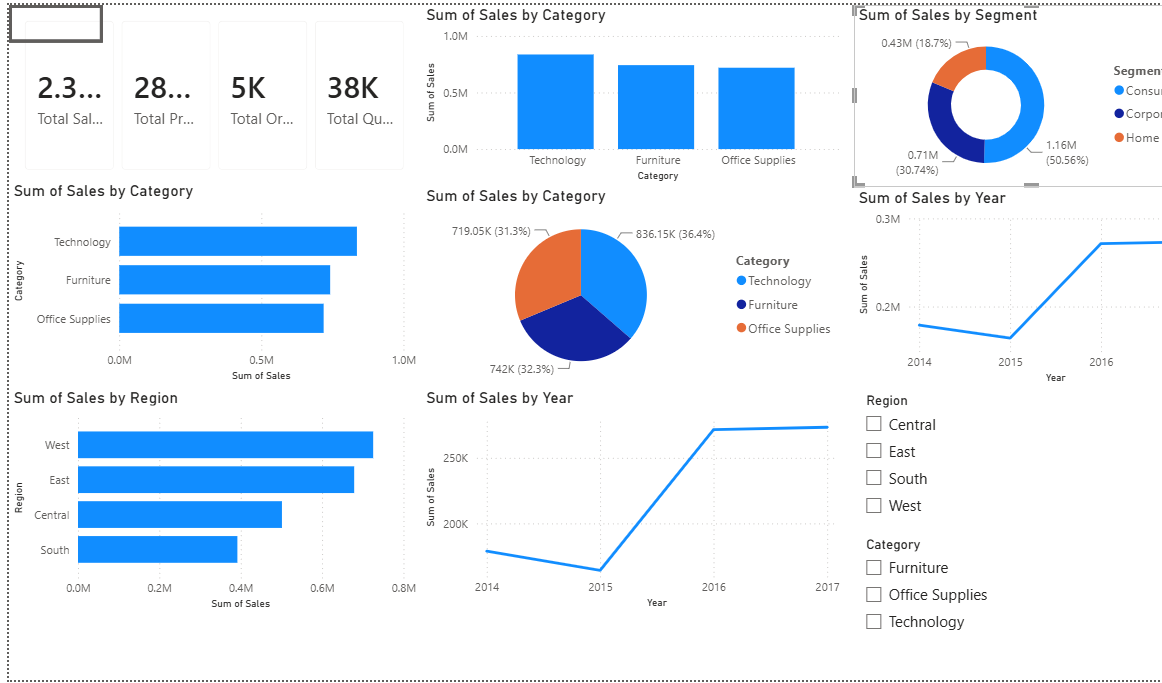

The page's visual inventory and layout, read from the dashboard file:
{"tool":"powerbi","page":{"name":"Dashboard","canvas":[1280,720],"ordinal":0},"visuals":[{"type":"cardVisual","fields":{"Data":["Sample - Superstore.Total Sales","Sample - Superstore.Total Profit","Sample - Superstore.Total Orders","Sample - Superstore.Total Quantity"]},"box":[0,0,440,193.7],"z":0},{"type":"clusteredBarChart","fields":{"Category":["Sample - Superstore.Category"],"Y":["Sum(Sample - Superstore.Sales)"]},"box":[0,188.4,440,218.9],"z":1000},{"type":"clusteredBarChart","fields":{"Category":["Sample - Superstore.Region"],"Y":["Sum(Sample - Superstore.Sales)"]},"box":[0,407.4,440,242.1],"z":2000},{"type":"clusteredColumnChart","fields":{"Category":["Sample - Superstore.Category"],"Y":["Sum(Sample - Superstore.Sales)"]},"box":[440,0,450.5,193.7],"z":3000},{"type":"pieChart","fields":{"Category":["Sample - Superstore.Category"],"Y":["Sum(Sample - Superstore.Sales)"]},"box":[440,193.7,450.5,213.7],"z":4000},{"type":"lineChart","fields":{"Y":["Sum(Sample - Superstore.Sales)"],"Category":["Sample - Superstore.Order Date.Variation.Date Hierarchy.Year"]},"box":[440,408,451,241],"z":5000},{"type":"donutChart","fields":{"Category":["Sample - Superstore.Segment"],"Y":["Sum(Sample - Superstore.Sales)"]},"box":[901,0,379,194],"z":6000},{"type":"lineChart","fields":{"Y":["Sum(Sample - Superstore.Sales)"],"Category":["Sample - Superstore.Order Date.Variation.Date Hierarchy.Year"]},"box":[901,194,379,214],"z":7000},{"type":"slicer","fields":{"Values":["Sample - Superstore.Region"]},"box":[901.9,407.7,378.8,153.8],"z":8000},{"type":"slicer","fields":{"Values":["Sample - Superstore.Category"]},"box":[901.5,561.8,377.9,158.8],"z":9000},{"type":"actionButton","box":[0,0,100,40],"z":9003},{"type":"actionButton","box":[0,0,100,40],"z":9004},{"type":"actionButton","box":[0,0,100,40],"z":9005},{"type":"actionButton","box":[0,0,100,40],"z":9006}]}

Visuals, with their boxes on the page's 1280x720 design canvas (x1, y1, x2, y2). These are canvas units, not pixel positions in the 1162x683 screenshot, which may show the page scaled, cropped or inside an application window:
cardVisual - Sample - Superstore.Total Sales x Sample - Superstore.Total Profit: [0,0,440,194]
clusteredBarChart - Sample - Superstore.Category x Sum(Sample - Superstore.Sales): [0,188,440,407]
clusteredBarChart - Sample - Superstore.Region x Sum(Sample - Superstore.Sales): [0,407,440,650]
clusteredColumnChart - Sample - Superstore.Category x Sum(Sample - Superstore.Sales): [440,0,890,194]
pieChart - Sample - Superstore.Category x Sum(Sample - Superstore.Sales): [440,194,890,407]
lineChart - Sum(Sample - Superstore.Sales) x Sample - Superstore.Order Date.Variation.Date Hierarchy.Year: [440,408,891,649]
donutChart - Sample - Superstore.Segment x Sum(Sample - Superstore.Sales): [901,0,1280,194]
lineChart - Sum(Sample - Superstore.Sales) x Sample - Superstore.Order Date.Variation.Date Hierarchy.Year: [901,194,1280,408]
slicer - Sample - Superstore.Region: [902,408,1281,562]
slicer - Sample - Superstore.Category: [902,562,1279,721]
actionButton: [0,0,100,40]
actionButton: [0,0,100,40]
actionButton: [0,0,100,40]
actionButton: [0,0,100,40]
